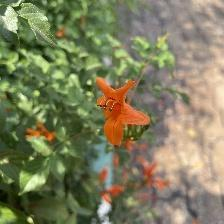honeysuckle: (90, 69, 152, 148)
